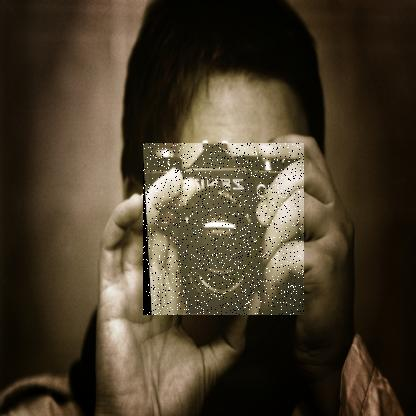Camera: (144, 144, 306, 317)
